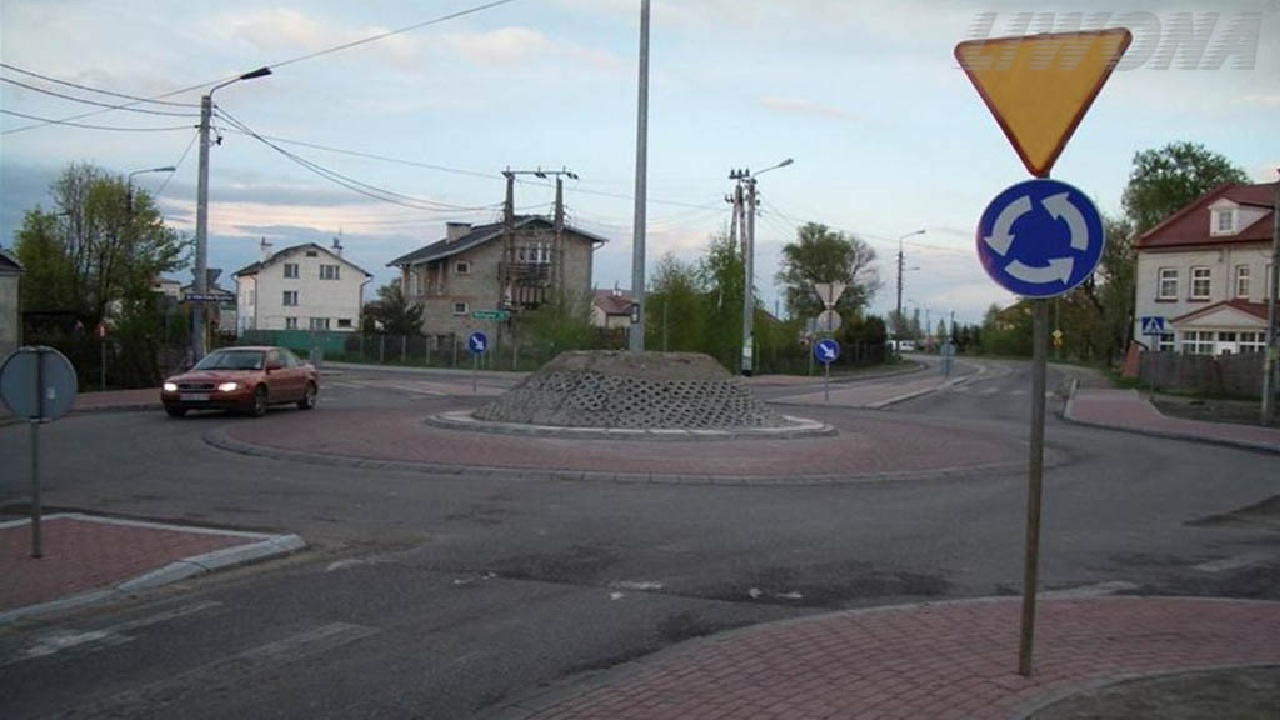A7: (954, 26, 1133, 178)
C12: (975, 178, 1105, 298)
C9: (814, 339, 840, 362), (468, 332, 486, 352)
